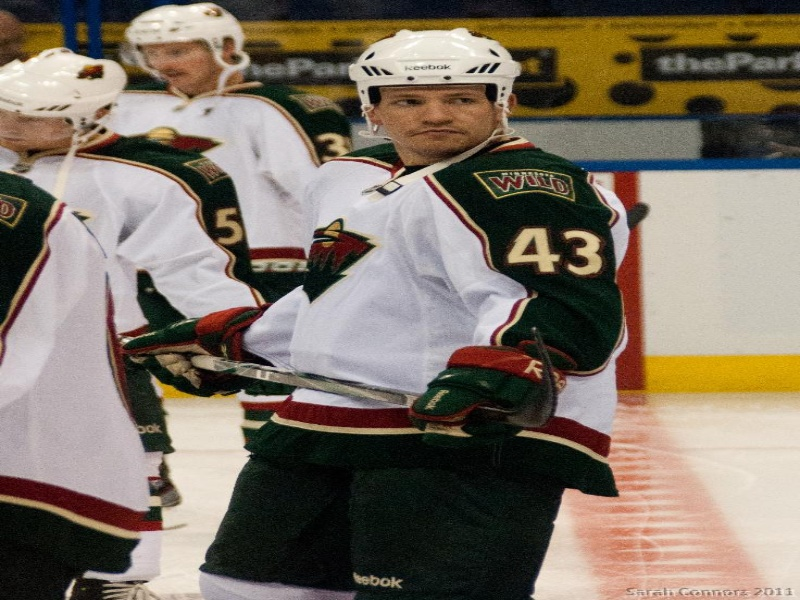Baret: (348, 25, 522, 89)
